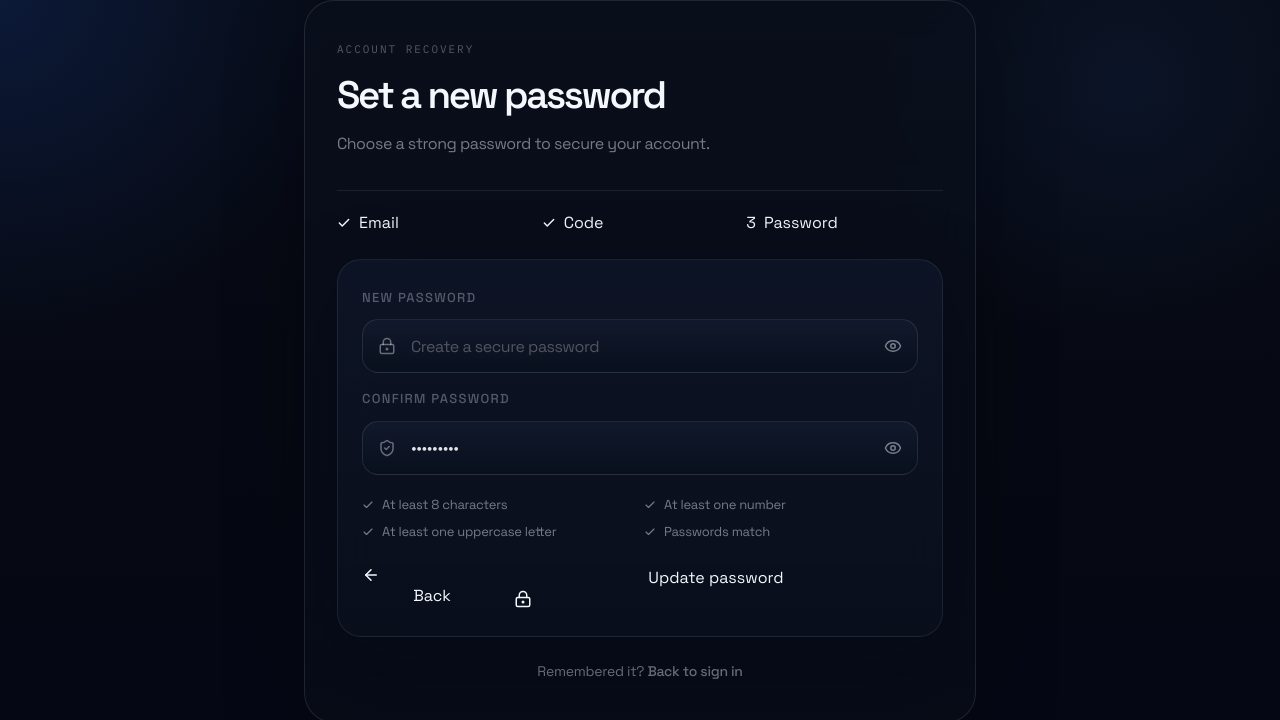
Test: features/password-recovery/ui/PasswordRecoveryFlow › toggles confirm password visibility
The width and height of the screenshot is (1280, 720).
Click the button named "Show confirm password" at (901, 448), box [884, 421, 918, 475]
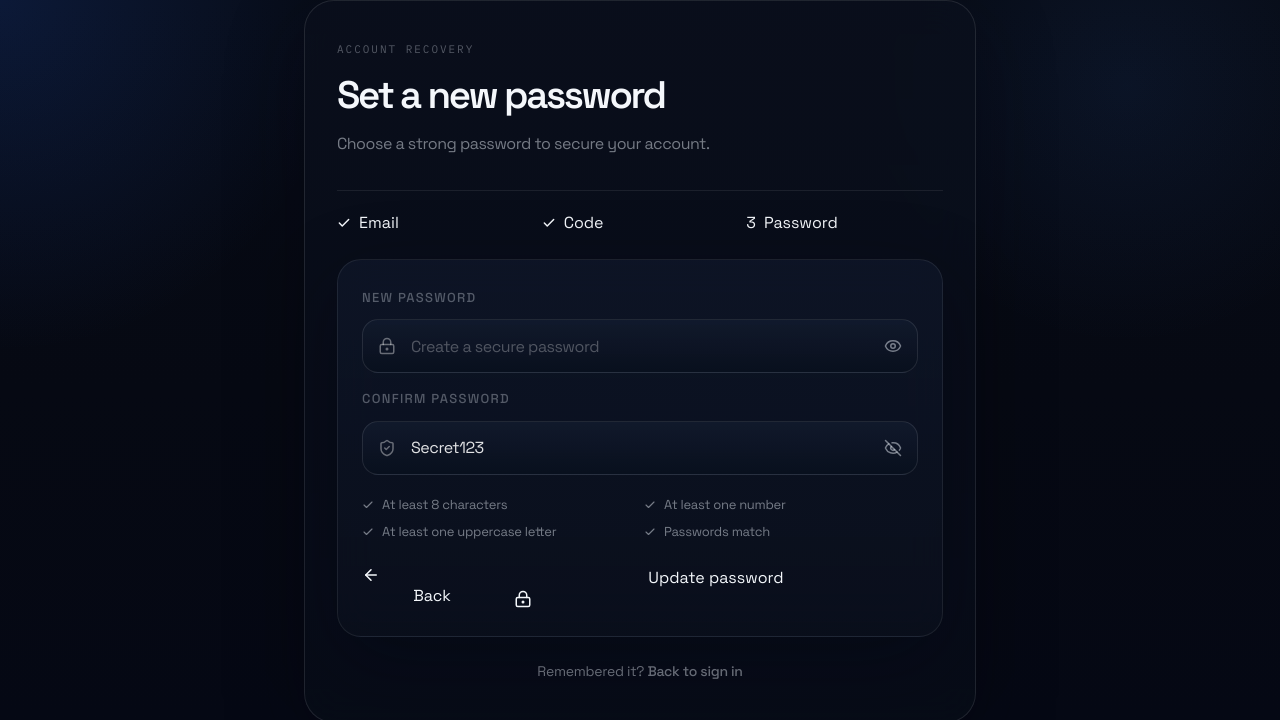
Check: the field labelled "Confirm Password" shows its text, box [362, 421, 918, 475]
Check: the button named "Hide confirm password" is shown
Click the button named "Hide confirm password" at (901, 448), box [884, 421, 918, 475]
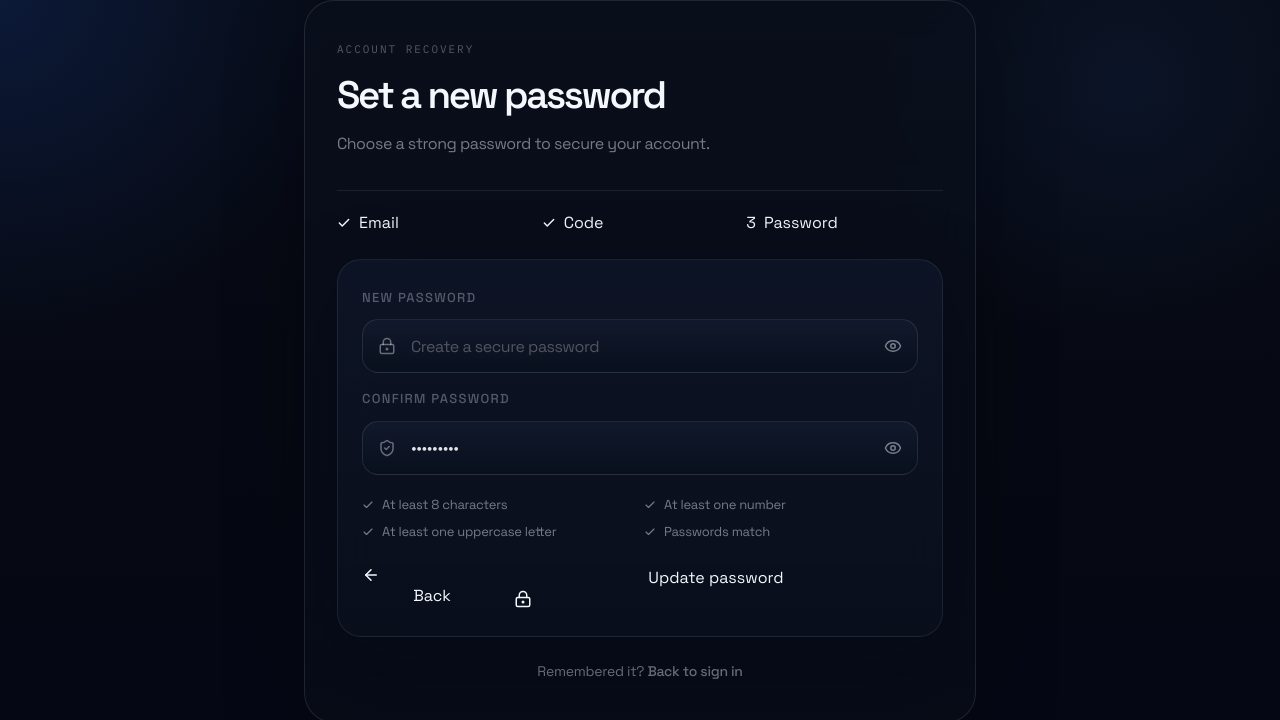
Check: the password field labelled "Confirm Password" hides its text, box [362, 421, 918, 475]
